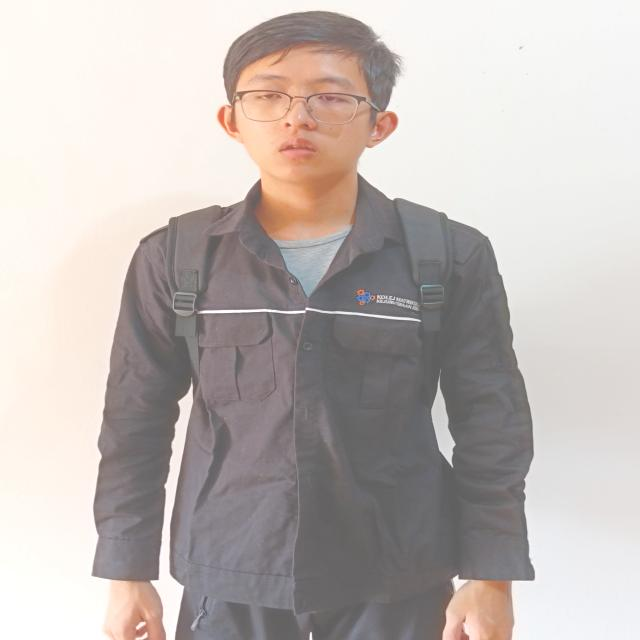person_with_labcoat: (93, 11, 534, 640)
